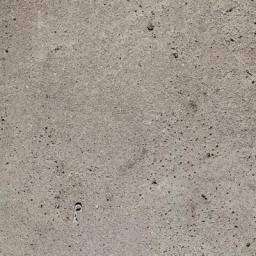FOD: (72, 198, 86, 229)
